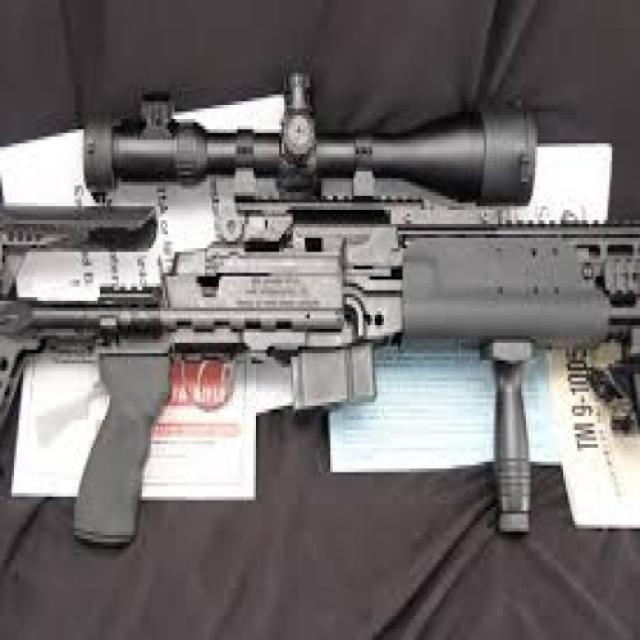Gun: (0, 95, 640, 569)
